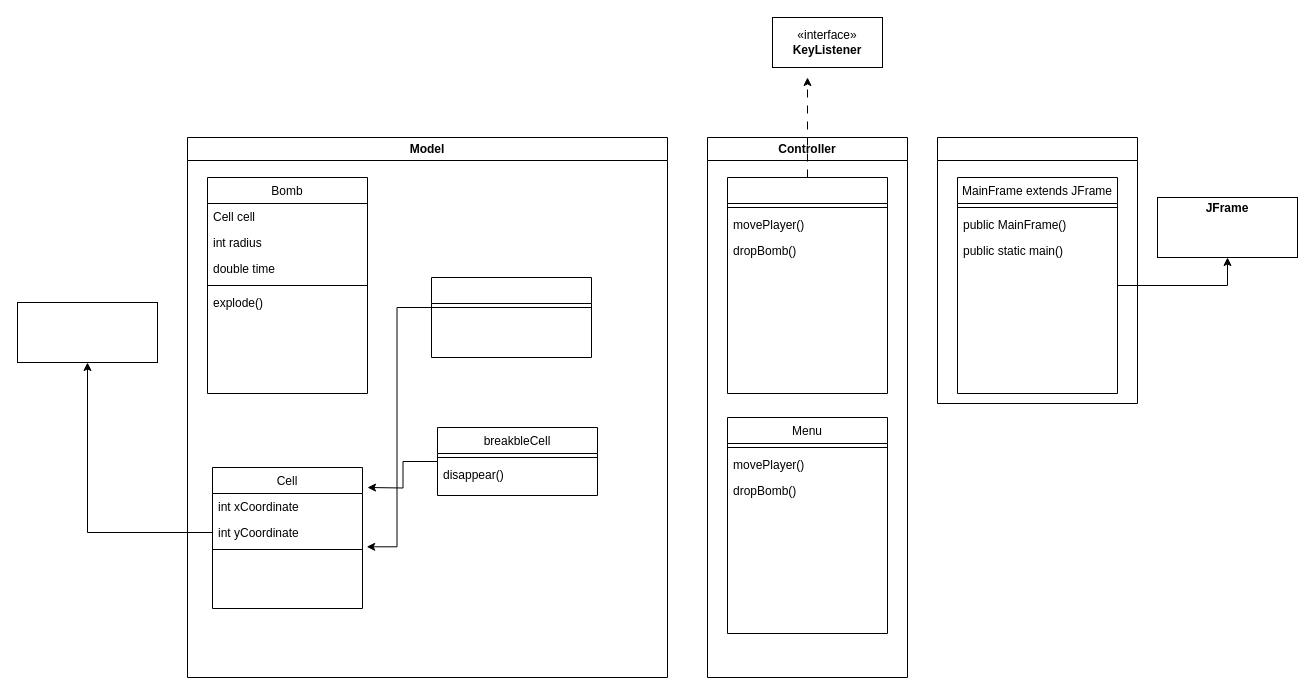
Some shapes in this 1315 by 695 pixel diagram are drawn without their labels. Each missing label, with the box of its shape:
JButton: (16, 302, 158, 362)
PlayerController: (726, 176, 888, 394)
unbreakableCell: (430, 276, 592, 358)
View: (936, 136, 1138, 404)
